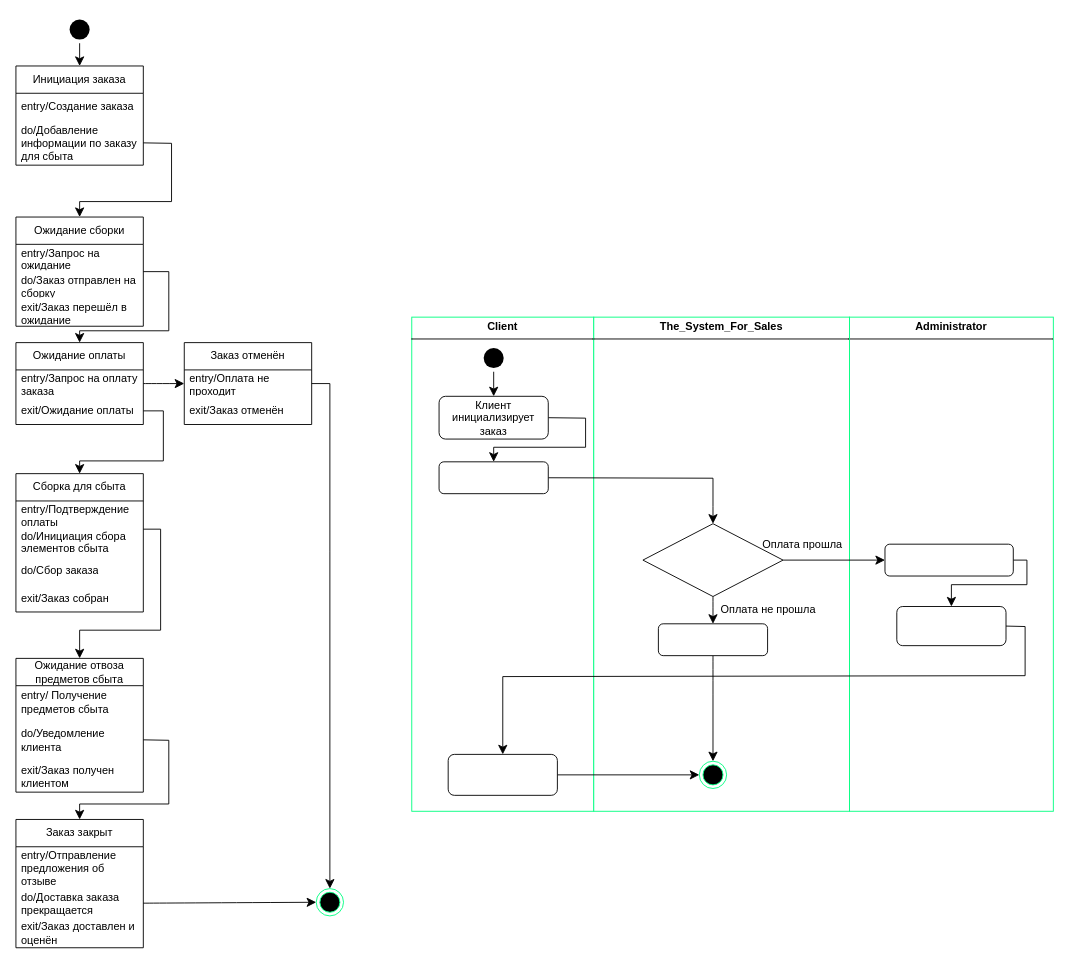
Some shapes in this 1069 by 964 pixel diagram are drawn without their labels. Each missing label, with the centre of its shape:
"Администратор ждёт возвращения клиента" goes at point 951,626.
"Администратор собирает и везёт заказ" goes at point 948,559.
"Клиент оплачивает заказ" goes at point 493,477.
"Клиент получает заказ" goes at point 502,774.
"Система отменяет заказ" goes at point 712,639.
